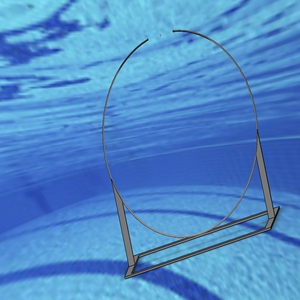circle: (100, 27, 281, 278)
